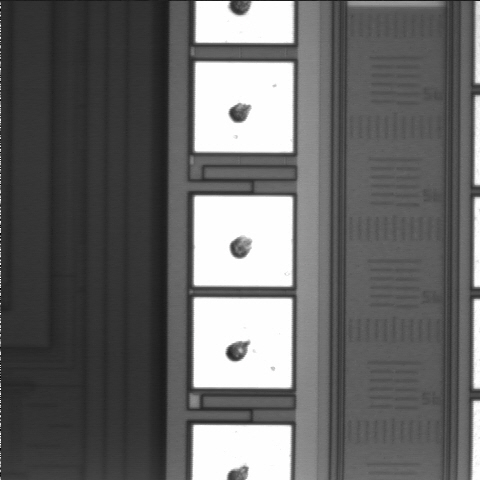pad: (195, 62, 293, 153), (194, 196, 293, 286), (194, 298, 292, 388)
